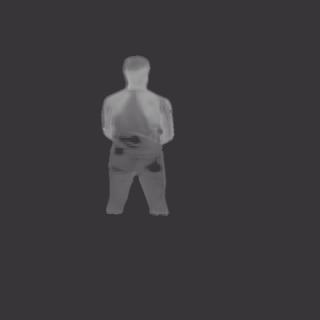Gun: (112, 134, 142, 156)
